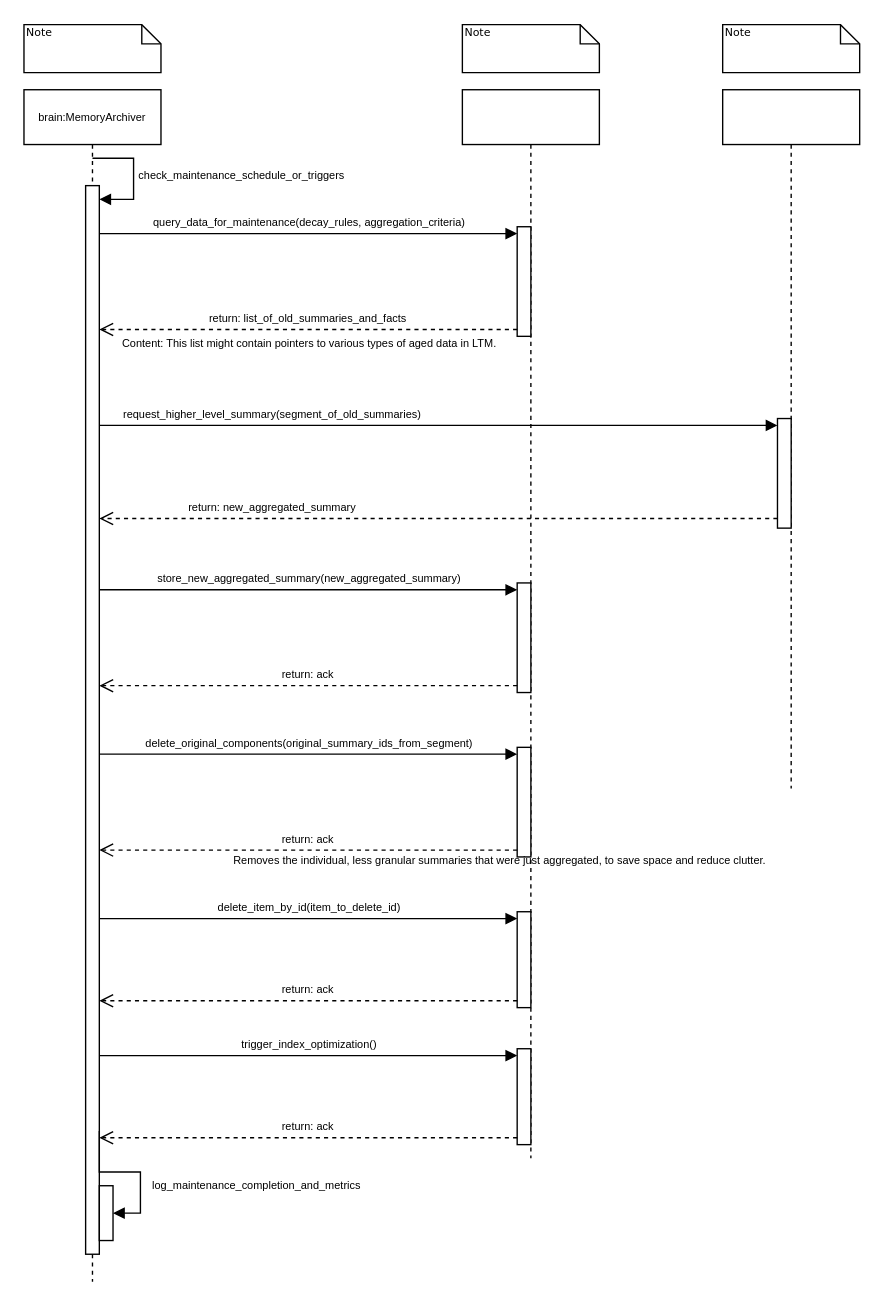
Some shapes in this 884 by 1306 pixel diagram are drawn without their labels. Here are the shapes that lost their labels. From the top down, the box of each, then its label:
(721, 88, 860, 788): brain:Language_center
(461, 88, 599, 1158): brain:Long_term_mem
